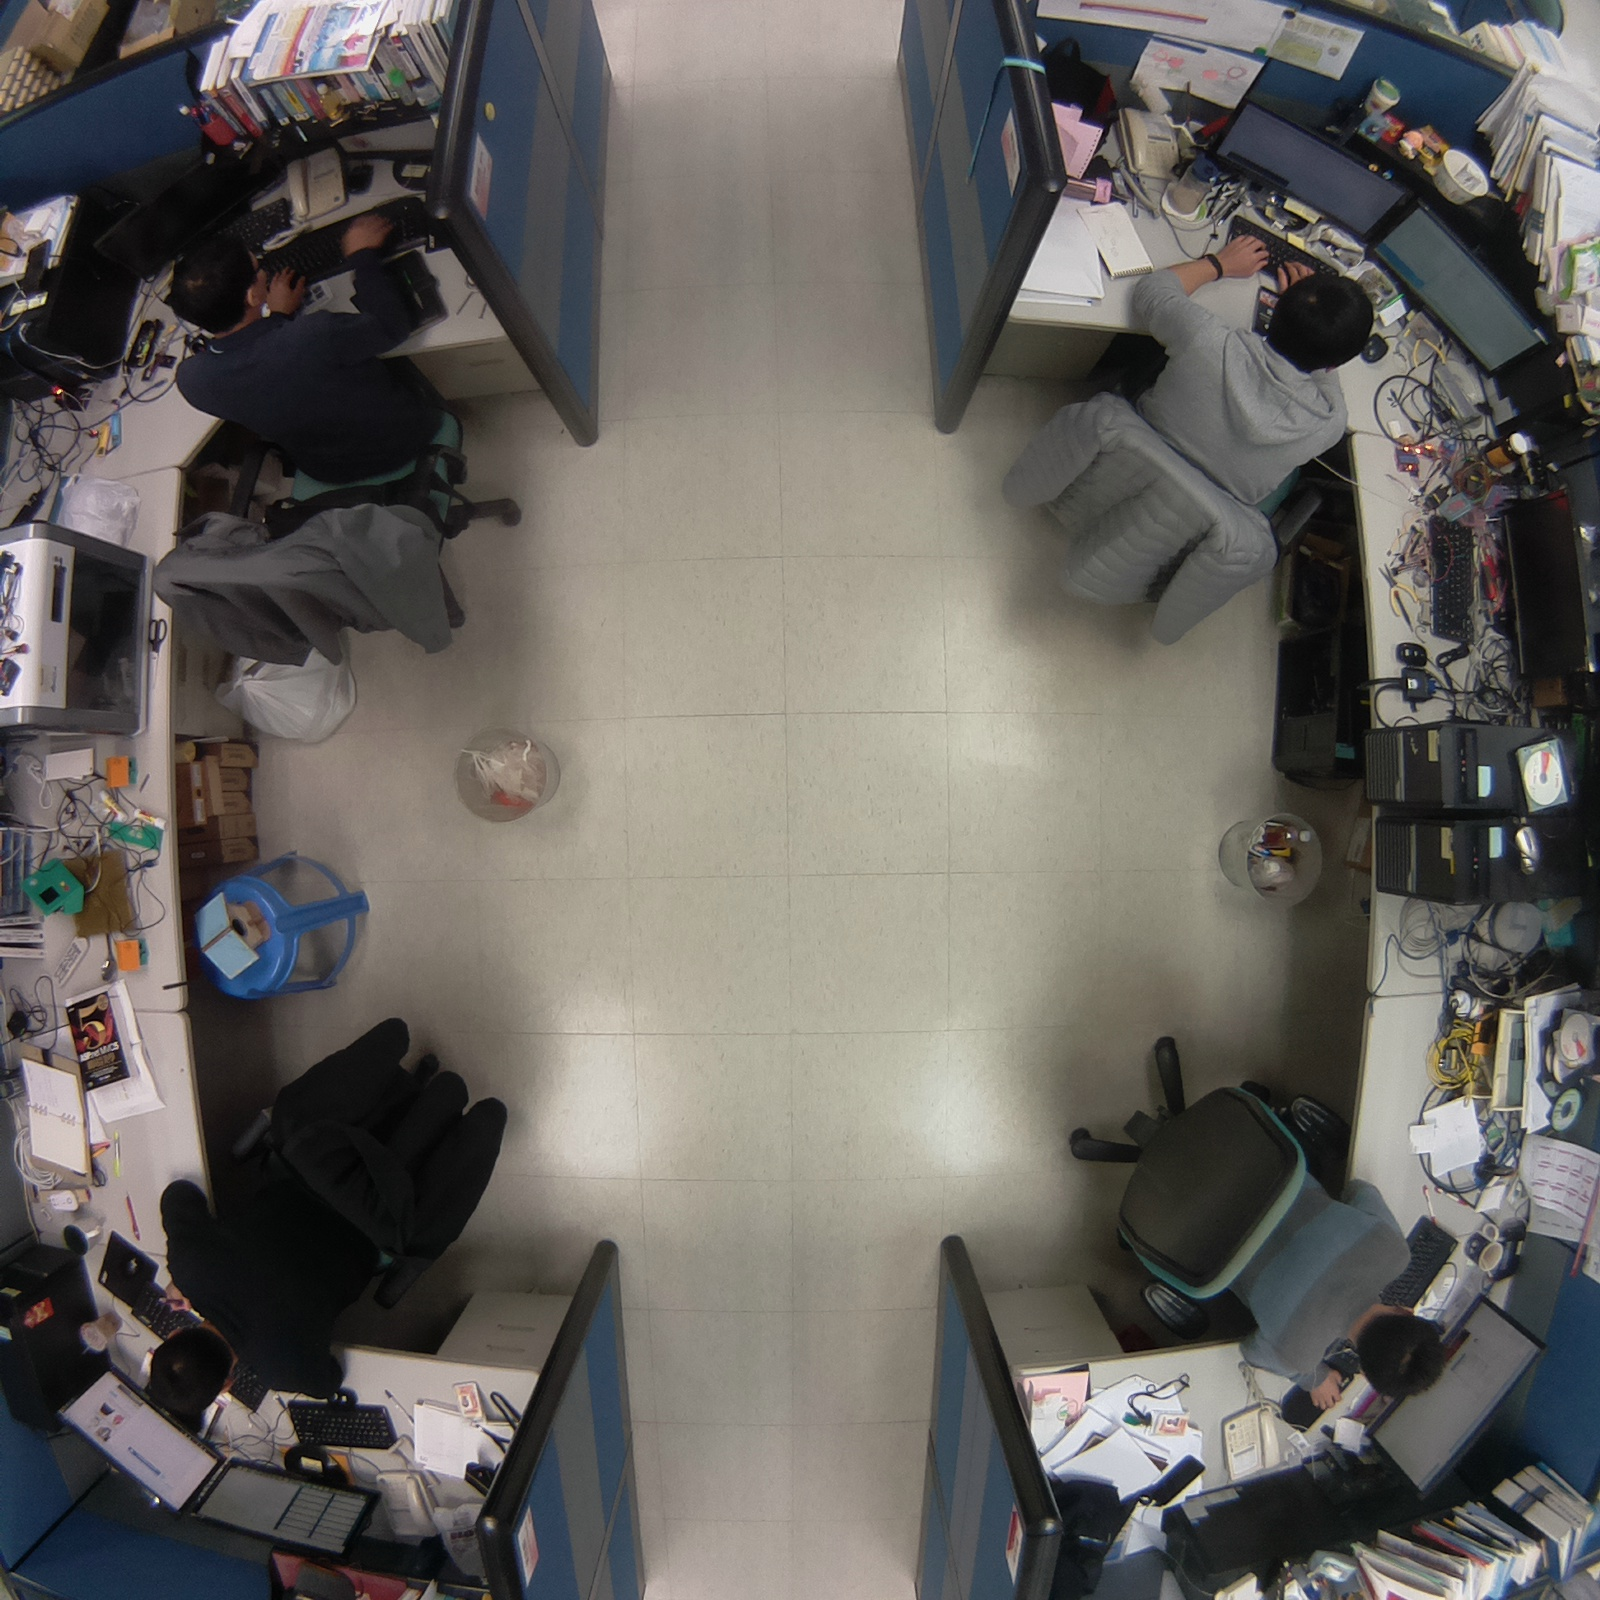head: (1263, 268, 1380, 378), (166, 231, 280, 336), (1342, 1300, 1457, 1404), (136, 1317, 244, 1425)
sitting: (142, 229, 542, 678), (973, 221, 1375, 660), (131, 1001, 517, 1437), (1053, 1024, 1455, 1421)
